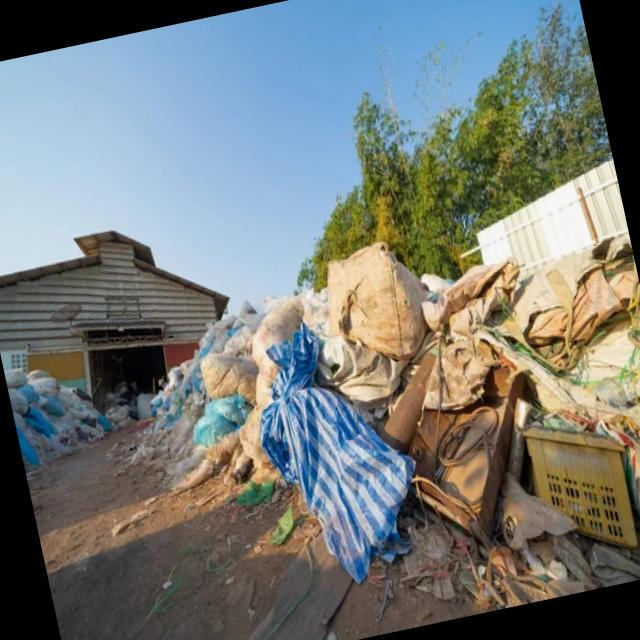garbage: (189, 200, 640, 640), (1, 341, 111, 493)
